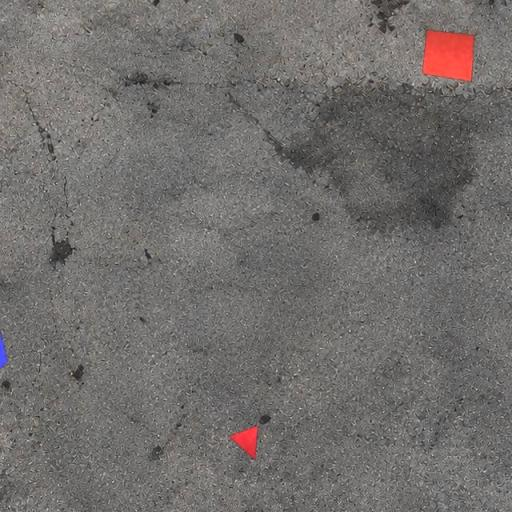RED_SQUARE: (422, 30, 475, 82)
